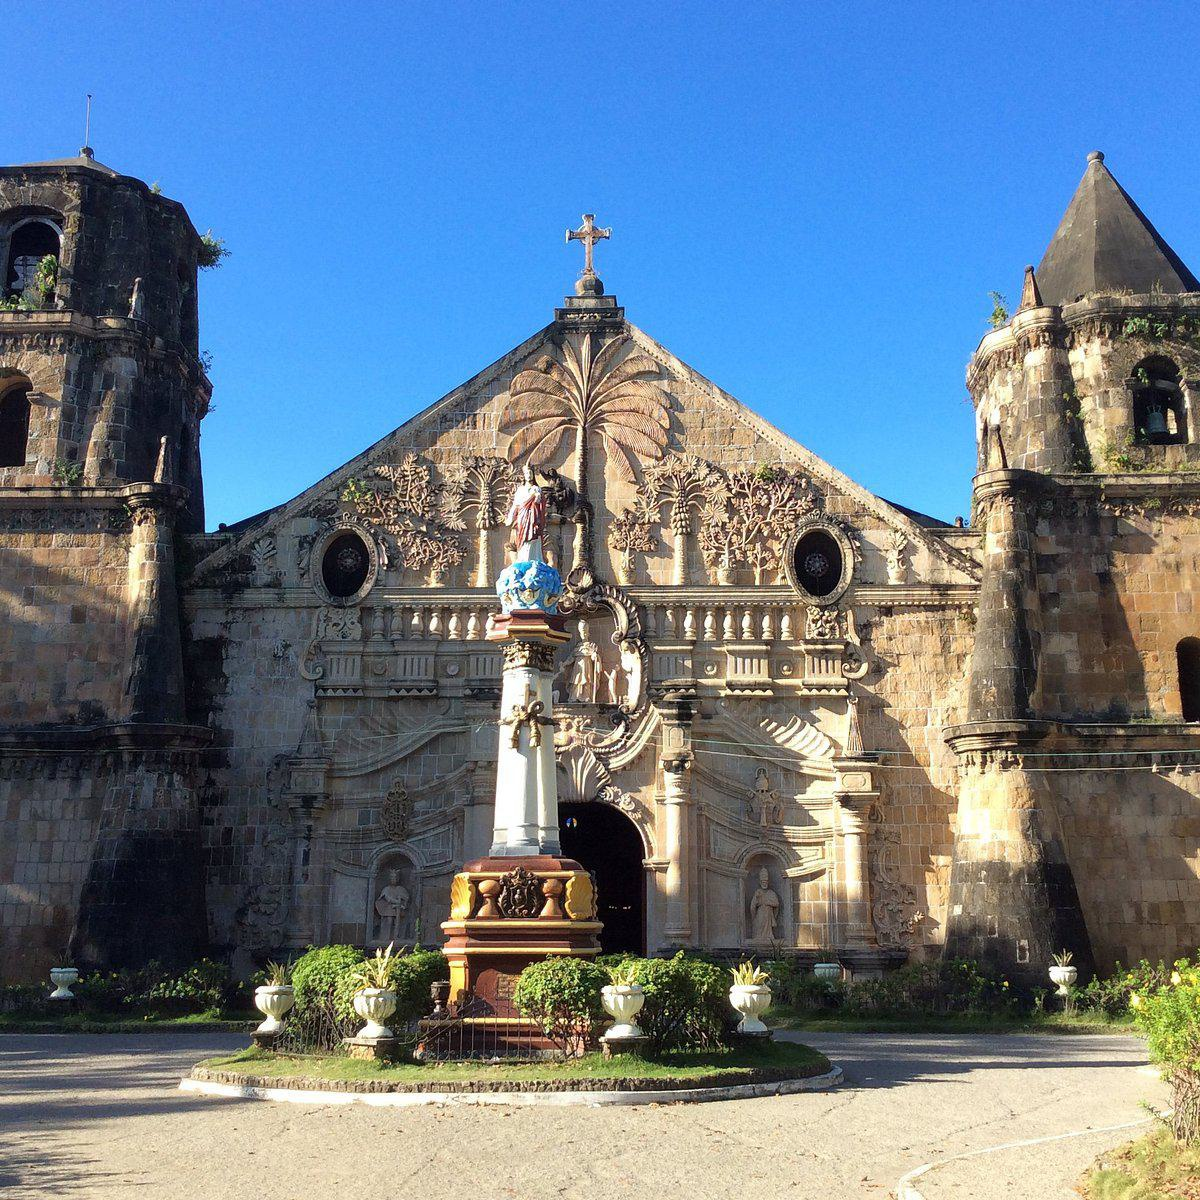miagao_church_miagao_iloilo: (1, 84, 1200, 1019)
